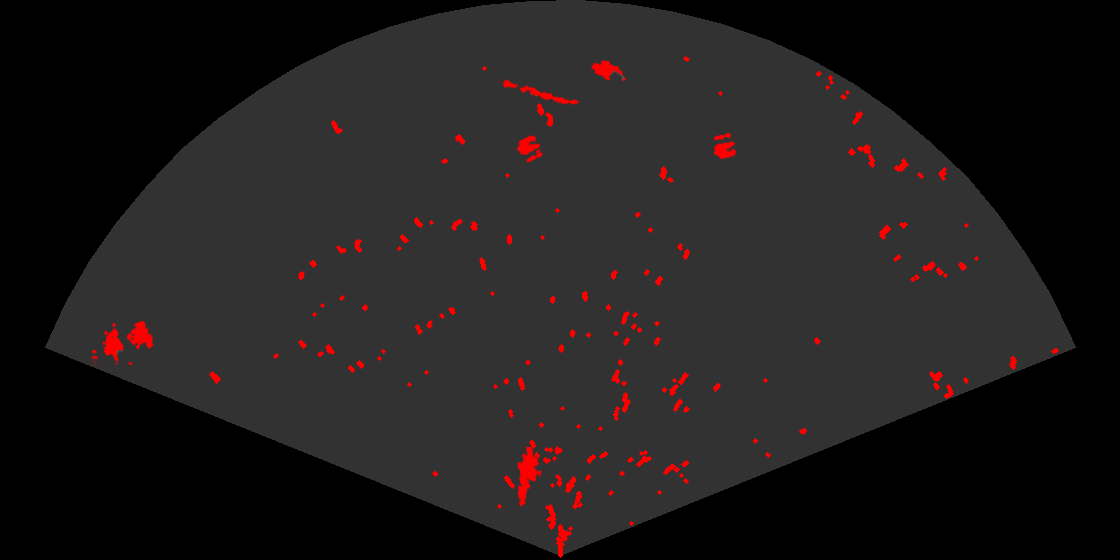AUV: (589, 59, 628, 83)
ball: (515, 134, 544, 164), (712, 131, 738, 161)
cage: (92, 319, 156, 365)
chain: (497, 78, 581, 106)
frogman: (516, 447, 544, 507)
